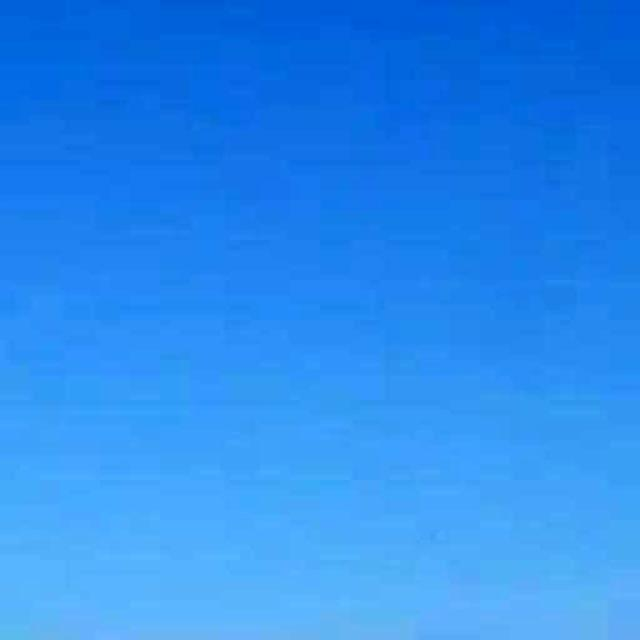drone: (402, 502, 464, 570)
